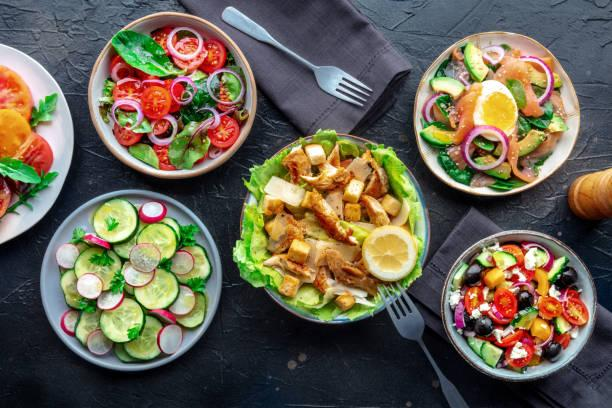Braised Crucian Carp: (236, 135, 424, 323), (40, 189, 218, 374), (414, 32, 581, 197), (87, 12, 252, 179), (440, 229, 595, 385)
